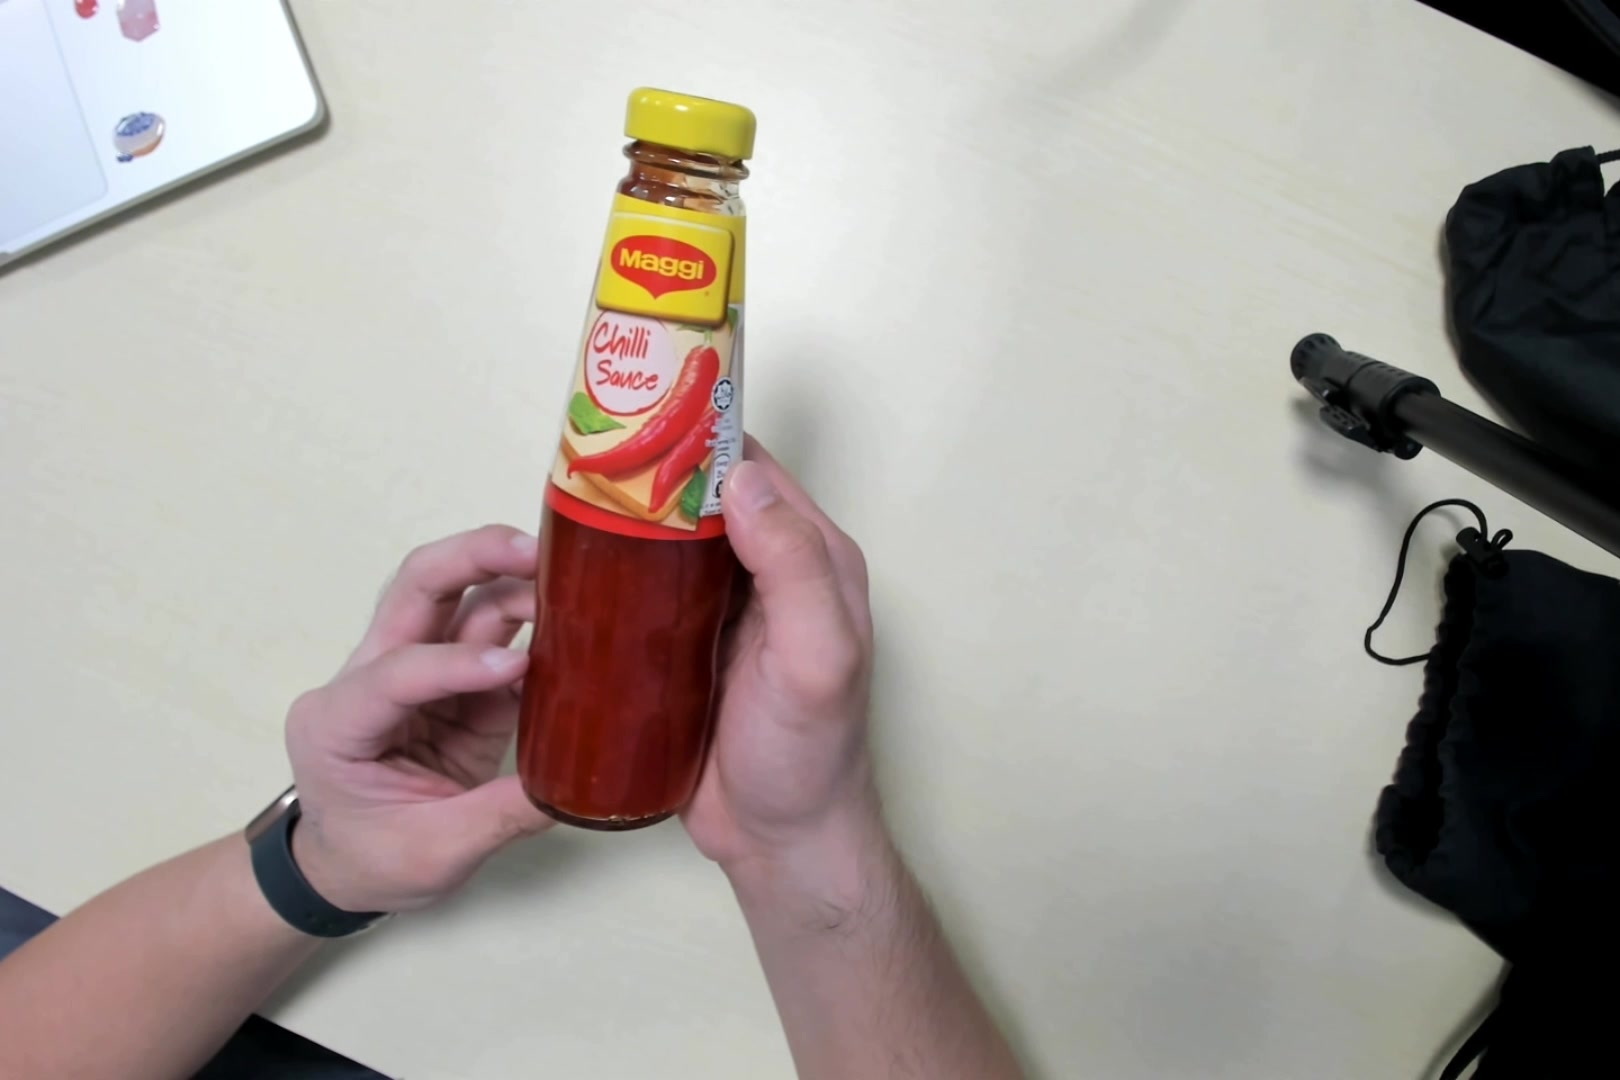KetchupChillSauce_300-399g_Halal_NonHealthy: (513, 74, 757, 830)
